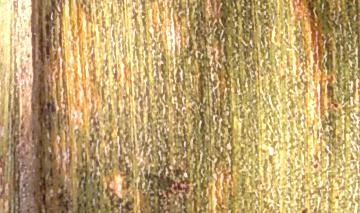tarspot: (39, 175, 47, 192), (297, 205, 310, 213), (41, 191, 48, 204), (45, 100, 52, 112), (48, 166, 55, 178), (311, 161, 320, 170), (56, 192, 66, 200)
